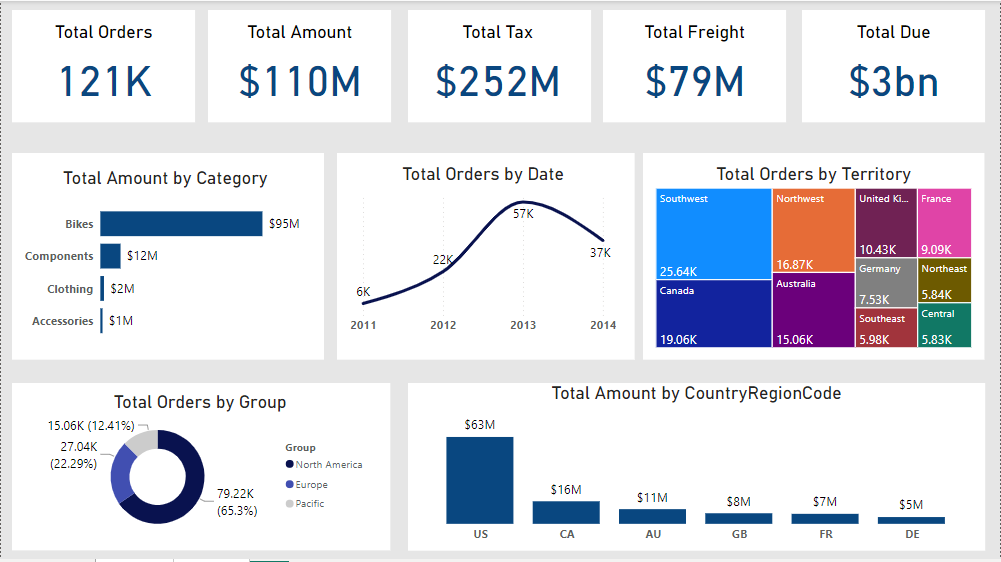

What the dashboard file says about the page in this screenshot:
{"tool":"powerbi","page":{"name":"Page 2","canvas":[1280,720],"ordinal":0},"visuals":[{"type":"shape","box":[14.4,11.5,234.7,144],"z":0},{"type":"card","title":"Total Orders","fields":{"Values":["DAX.Total Orders"]},"box":[36,27.4,191.5,112.3],"z":1000},{"type":"shape","box":[265,11.5,234.7,144],"z":2000},{"type":"shape","box":[521.3,11.5,234.7,144],"z":3000},{"type":"shape","box":[771.8,11.5,234.7,144],"z":4000},{"type":"shape","box":[1026.7,11.5,234.7,144],"z":5000},{"type":"card","title":"Total Amount","fields":{"Values":["DAX_measures.Total Amount"]},"box":[286.6,27.4,191.5,112.3],"z":6000},{"type":"card","title":"Total Tax","fields":{"Values":["DAX_measures.Tax Amount"]},"box":[541.4,27.4,191.5,112.3],"z":7000},{"type":"card","title":"Total Freight","fields":{"Values":["DAX_measures.Total Freight"]},"box":[793.4,27.4,191.5,112.3],"z":8000},{"type":"card","title":"Total Due","fields":{"Values":["DAX_measures.Total Due"]},"box":[1048.3,27.4,191.5,112.3],"z":9000},{"type":"shape","box":[14.4,194.4,400.3,265],"z":10000},{"type":"clusteredBarChart","fields":{"Y":["DAX_measures.Total Amount"],"Category":["Category.Category"]},"box":[24.5,214.6,373,234.7],"z":11000},{"type":"shape","box":[430.6,194.4,381.6,265],"z":12000},{"type":"lineChart","title":"Total Orders by Date","fields":{"Category":["OrdersFact.OrderDate.Variation.Date Hierarchy.Year","OrdersFact.OrderDate.Variation.Date Hierarchy.Quarter","OrdersFact.OrderDate.Variation.Date Hierarchy.Month","OrdersFact.OrderDate.Variation.Date Hierarchy.Day"],"Y":["DAX.Total Orders"]},"box":[442.1,208.8,351.4,227.5],"z":13000},{"type":"shape","box":[14.4,489.6,485.3,214.6],"z":14000},{"type":"donutChart","fields":{"Y":["DAX.Total Orders"],"Category":["Territory.Group"]},"box":[31.7,501.1,446.4,191.5],"z":15000},{"type":"clusteredColumnChart","fields":{"Y":["DAX_measures.Total Amount"],"Category":["Territory.CountryRegionCode"]},"box":[521.3,489.6,740.2,214.6],"z":16000},{"type":"shape","box":[823.7,194.4,437.8,265],"z":17000},{"type":"treemap","fields":{"Values":["DAX_measures.Total Orders"],"Group":["Territory.Territory"]},"box":[835.2,208.8,414.7,240.5],"z":18000}]}

Visuals, with their boxes in screenshot pixels (x1, y1, x2, y2), scaled from the page's 1280x720 canvas onto the 1001x562 screenshot:
shape: {"left": 11, "top": 9, "right": 195, "bottom": 121}
"Total Orders" card: {"left": 28, "top": 21, "right": 178, "bottom": 109}
shape: {"left": 207, "top": 9, "right": 391, "bottom": 121}
shape: {"left": 408, "top": 9, "right": 591, "bottom": 121}
shape: {"left": 604, "top": 9, "right": 787, "bottom": 121}
shape: {"left": 803, "top": 9, "right": 986, "bottom": 121}
"Total Amount" card: {"left": 224, "top": 21, "right": 374, "bottom": 109}
"Total Tax" card: {"left": 423, "top": 21, "right": 573, "bottom": 109}
"Total Freight" card: {"left": 620, "top": 21, "right": 770, "bottom": 109}
"Total Due" card: {"left": 820, "top": 21, "right": 970, "bottom": 109}
shape: {"left": 11, "top": 152, "right": 324, "bottom": 359}
clusteredBarChart - DAX_measures.Total Amount x Category.Category: {"left": 19, "top": 168, "right": 311, "bottom": 351}
shape: {"left": 337, "top": 152, "right": 635, "bottom": 359}
"Total Orders by Date" lineChart: {"left": 346, "top": 163, "right": 621, "bottom": 341}
shape: {"left": 11, "top": 382, "right": 391, "bottom": 550}
donutChart - DAX.Total Orders x Territory.Group: {"left": 25, "top": 391, "right": 374, "bottom": 541}
clusteredColumnChart - DAX_measures.Total Amount x Territory.CountryRegionCode: {"left": 408, "top": 382, "right": 987, "bottom": 550}
shape: {"left": 644, "top": 152, "right": 987, "bottom": 359}
treemap - DAX_measures.Total Orders x Territory.Territory: {"left": 653, "top": 163, "right": 977, "bottom": 351}
